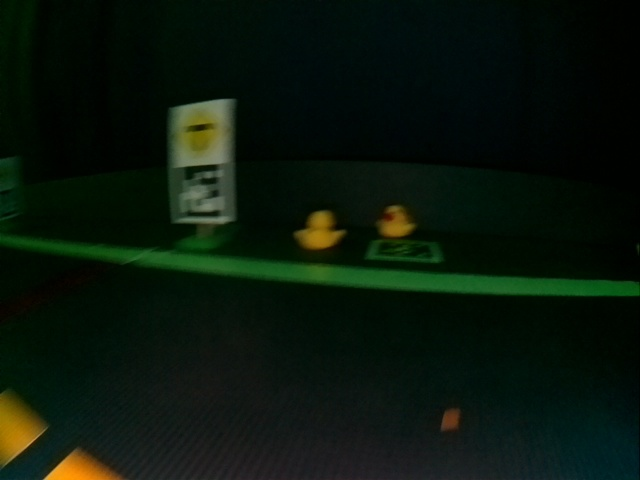Duckie: (299, 211, 342, 249), (375, 205, 409, 234)
Intersection sign: (176, 106, 225, 158)
QR code: (170, 169, 229, 220), (366, 239, 435, 263)
